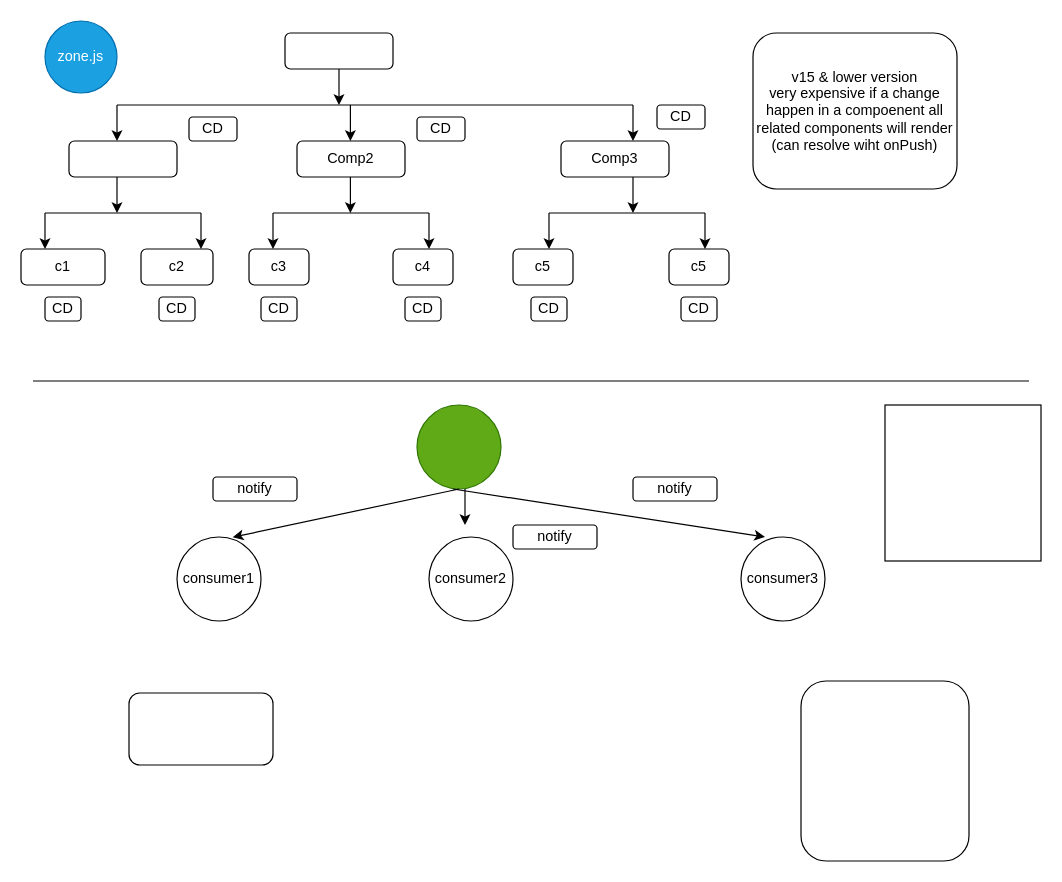
The diagram is 1062 pixels wide and 882 high, and some of its shapes have lost their labels. Each missing label, with the box of its shape:
Comp1: (68, 140, 177, 177)
computed mehod also will update the value: (128, 692, 273, 765)
From v16 CD is not involve performance high: (884, 404, 1041, 561)
Root: (284, 32, 393, 69)
set mutate update toSignal toObservable computed() use signal va;ue with (): (800, 680, 969, 861)
Signal: (416, 404, 501, 489)
